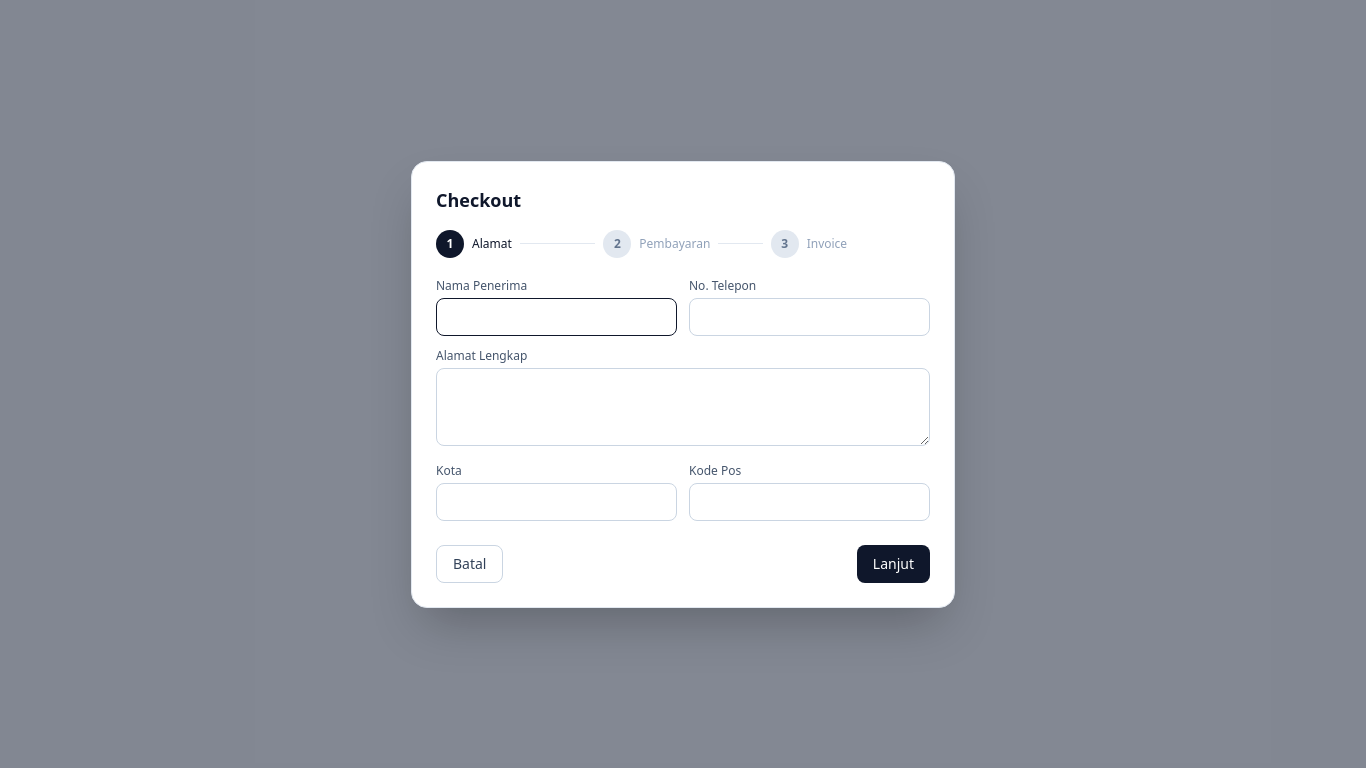
it: CheckoutModal (wizard 3 langkah) › membersihkan pesan error setelah field diperbaiki
The image size is (1366, 768).
Click the button "Lanjut".
click(893, 564)  # box [857, 544, 930, 582]
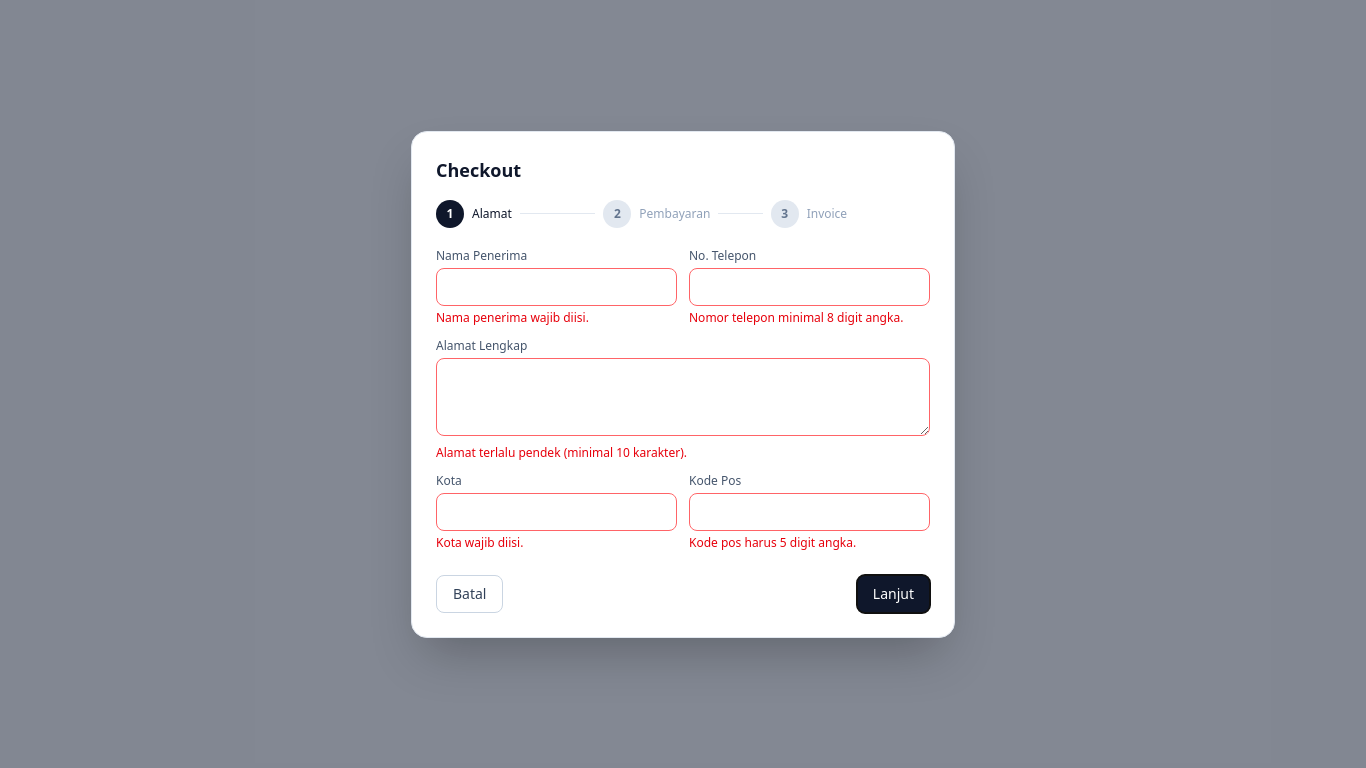
Check: the text "Kota wajib diisi." is shown, box [436, 534, 523, 550]
Type "Bandung" into the field labelled "Kota".
click(556, 512); type("Bandung")  # box [436, 492, 677, 530]
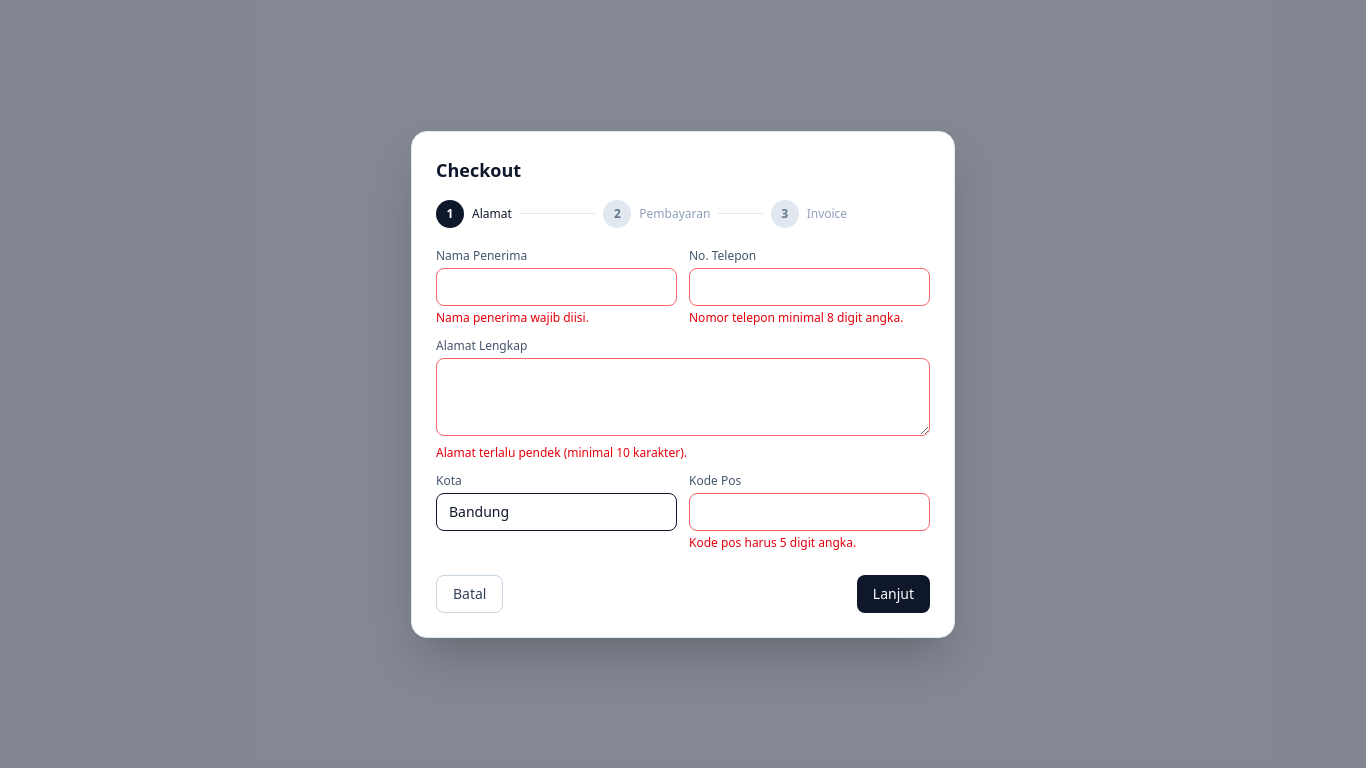
Check: the text "Kota wajib diisi" is gone
